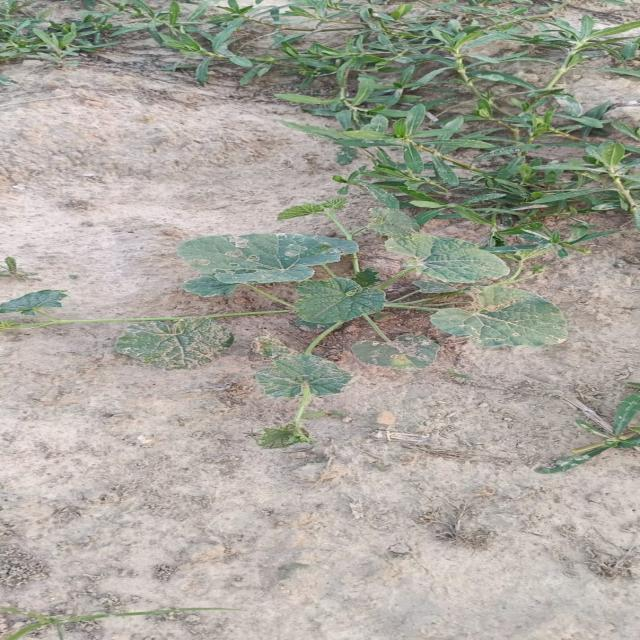plant: (0, 209, 567, 448)
